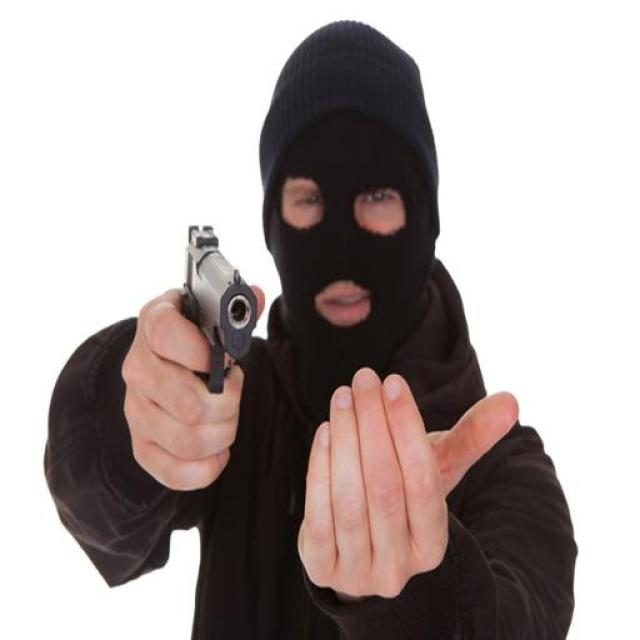pistol: (176, 225, 257, 395)
